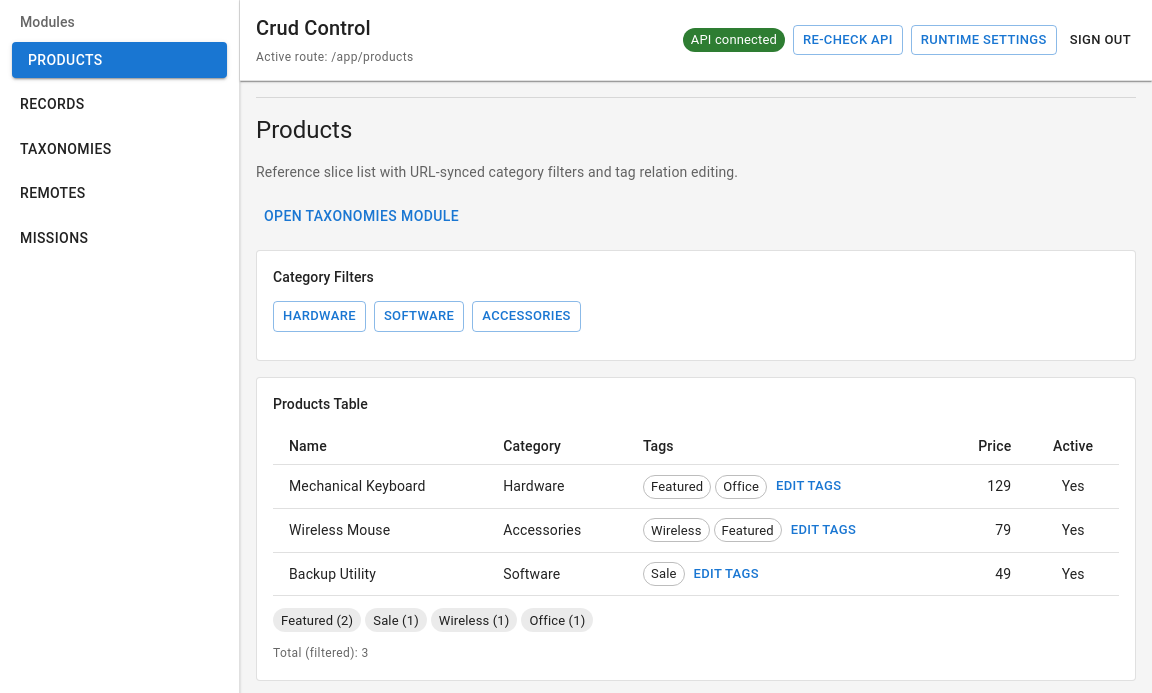
app-shell hydration: category filter updates URL and request payload
Expected: the text "Mechanical Keyboard" is shown, [273,465,487,508]
Click the button "Software": (419, 317) [374,301,464,332]
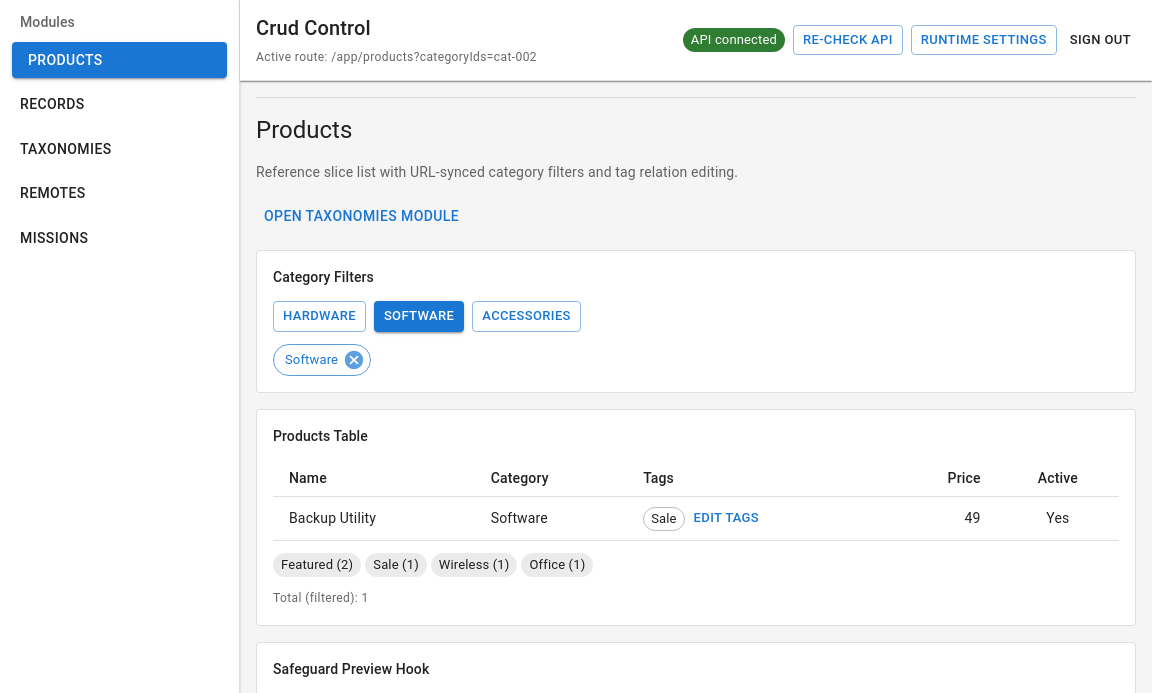
Expected: the text "Backup Utility" is shown, [273,497,475,540]
Expected: the text "Mechanical Keyboard" is gone
